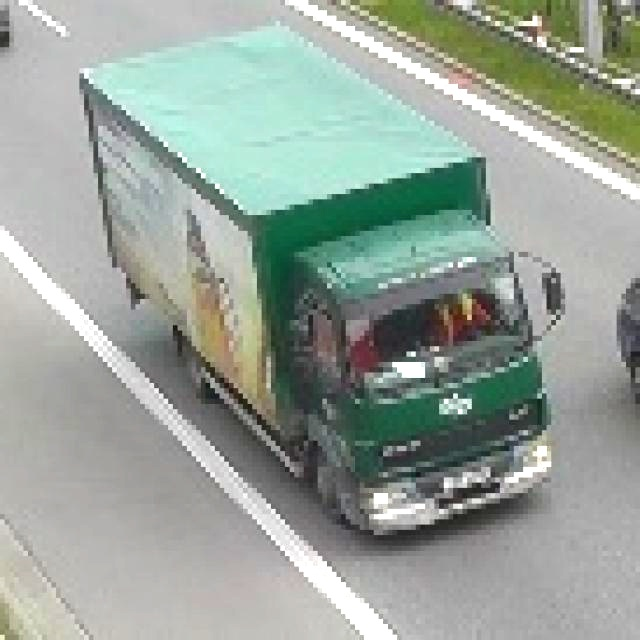truck: (69, 23, 595, 570)
